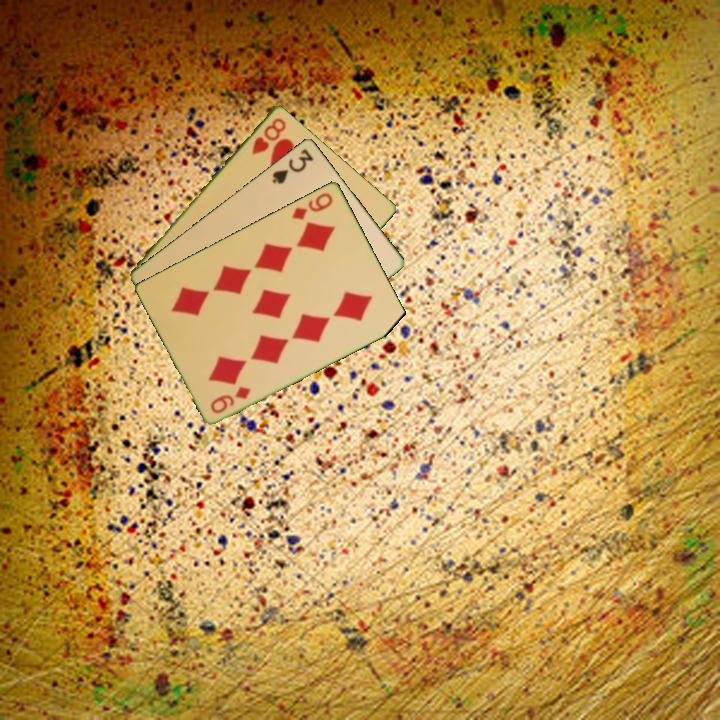3s: (269, 144, 316, 187)
8h: (248, 114, 289, 157)
9d: (207, 382, 254, 416), (288, 189, 336, 222)
